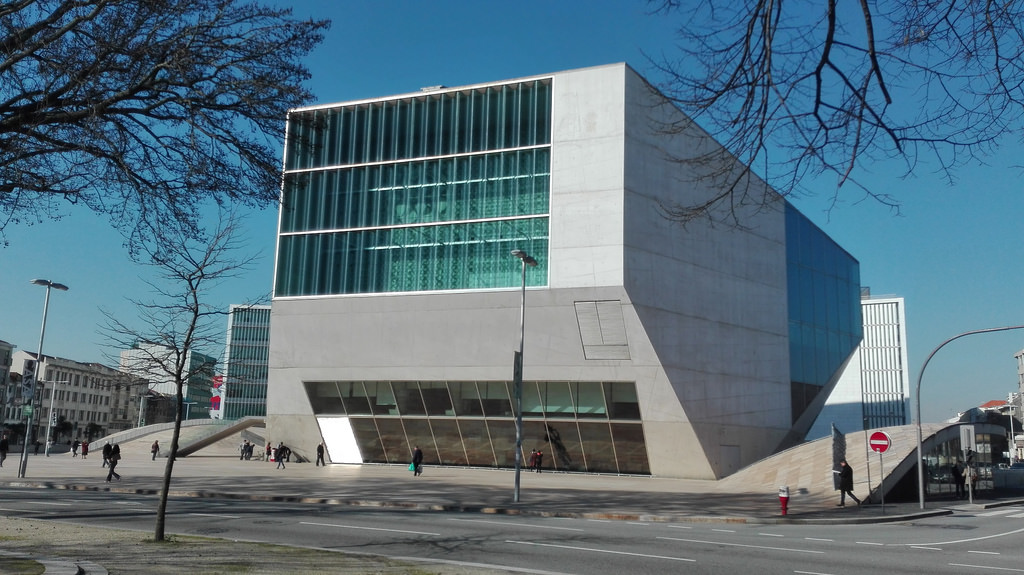musica: (266, 60, 866, 481)
